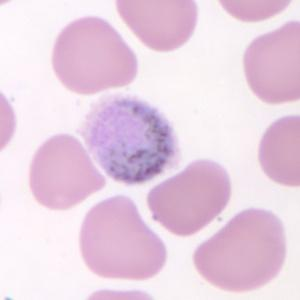Infected: (78, 92, 183, 187)
Uninfected: (192, 209, 288, 294), (80, 195, 167, 278), (147, 157, 231, 236), (53, 17, 141, 92), (33, 132, 108, 211), (115, 0, 199, 51), (246, 22, 300, 101)
